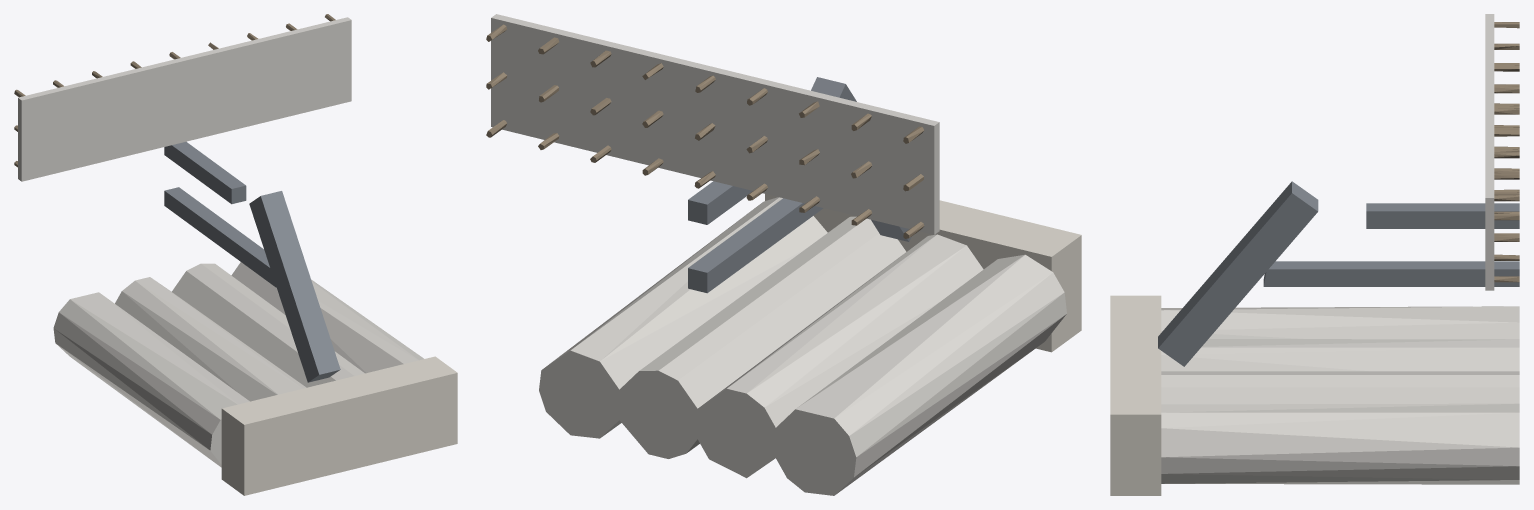
File: r-154-redwood-city-cement-silos.lod1.glb
3 renders of one model, left to right at view 1: azimuth 30°, elevation 25°; view 2: azimuth 150°, elevation 25°; view 3: azimuth 270°, elevation 25°, orthographic. The views are drawn at different scales.
Parts seen in each view (by area): view 1: silos, wharf-deck, headhouse, conveyor-gallery, wharf-piles; view 2: silos, wharf-deck, headhouse, conveyor-gallery, wharf-piles; view 3: silos, conveyor-gallery, headhouse, wharf-piles, wharf-deck.
Part boxes in pixels (x1,y1,x2,y2): silos: (53,262,423,467); wharf-deck: (18,17,351,181); headhouse: (221,356,457,495); conveyor-gallery: (164,141,340,382); wharf-piles: (14,14,335,167); silos: (539,197,1066,495); wharf-deck: (491,14,939,234); headhouse: (765,194,1081,352); conveyor-gallery: (688,77,911,293); wharf-piles: (486,24,924,238); silos: (1161,306,1519,484); conveyor-gallery: (1158,181,1519,366); headhouse: (1110,295,1161,495); wharf-piles: (1494,22,1519,282); wharf-deck: (1485,14,1494,290).
Size of the model in its own units: 34000 by 28499 by 31999.
